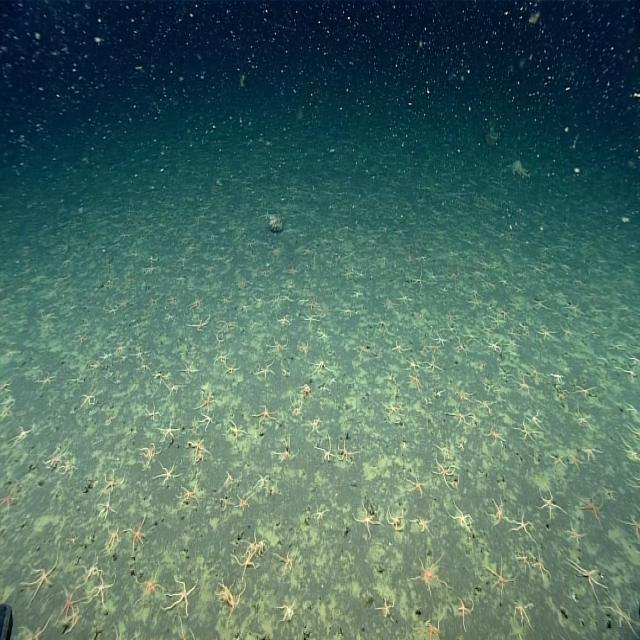brittle-stars: (12, 531, 66, 607), (402, 546, 454, 600), (561, 549, 609, 602), (127, 553, 165, 616), (159, 562, 203, 616), (228, 528, 270, 581), (481, 548, 517, 603), (345, 495, 382, 547), (208, 574, 248, 622), (441, 491, 480, 540), (12, 599, 58, 640), (83, 569, 121, 617), (602, 592, 640, 640), (557, 372, 604, 410), (123, 508, 156, 562), (498, 593, 540, 635), (533, 482, 570, 527), (52, 582, 84, 634), (567, 494, 606, 536), (448, 588, 478, 638), (7, 413, 41, 457), (507, 549, 552, 581), (411, 603, 449, 640), (269, 544, 304, 582), (97, 520, 124, 568), (484, 492, 513, 536), (508, 509, 540, 548), (74, 547, 102, 591), (246, 402, 284, 434), (425, 461, 458, 497), (187, 432, 216, 472), (616, 506, 640, 552), (136, 434, 162, 476), (376, 395, 408, 427), (222, 415, 253, 448), (100, 465, 130, 499), (404, 512, 434, 546), (154, 455, 182, 491), (88, 491, 118, 524), (402, 471, 432, 504), (558, 526, 594, 553), (43, 436, 65, 480), (373, 590, 396, 632), (268, 436, 298, 468), (0, 482, 23, 523), (0, 386, 21, 430), (181, 316, 216, 342), (170, 612, 202, 640), (332, 437, 359, 470), (27, 369, 61, 395), (274, 596, 300, 630), (385, 501, 407, 541), (529, 281, 551, 321), (302, 411, 331, 439), (532, 318, 560, 347), (251, 359, 277, 390), (456, 290, 487, 316), (621, 462, 640, 504), (190, 384, 218, 412), (313, 433, 335, 468), (179, 479, 205, 508), (512, 421, 538, 450), (77, 384, 99, 418), (300, 301, 326, 329), (62, 452, 87, 481), (473, 392, 502, 417), (515, 370, 535, 406), (236, 485, 259, 516), (429, 323, 454, 351), (215, 312, 239, 341), (619, 436, 640, 468), (445, 406, 474, 429), (160, 410, 178, 447), (488, 421, 508, 454), (528, 255, 550, 285), (561, 295, 586, 321), (142, 394, 162, 426), (195, 407, 222, 430), (451, 385, 479, 407), (410, 263, 429, 295), (266, 334, 291, 358), (382, 362, 402, 392), (584, 437, 604, 467), (166, 377, 187, 405), (70, 327, 90, 356), (264, 285, 284, 314), (213, 490, 237, 514), (351, 337, 376, 360), (306, 504, 329, 529), (431, 439, 454, 464), (394, 284, 416, 310), (177, 353, 198, 380), (66, 369, 90, 392), (420, 356, 443, 379), (98, 298, 120, 322), (379, 294, 401, 318), (223, 360, 245, 383), (285, 396, 307, 419), (342, 281, 365, 303), (598, 485, 620, 508), (483, 334, 506, 356), (270, 311, 294, 332), (506, 295, 526, 320), (254, 468, 273, 494), (135, 263, 157, 285), (308, 356, 332, 376), (222, 462, 240, 488), (292, 335, 312, 358), (298, 374, 313, 404), (532, 405, 550, 430), (131, 340, 147, 368), (393, 330, 409, 358), (552, 446, 568, 474), (214, 287, 231, 313), (165, 287, 182, 313), (373, 317, 394, 338), (281, 261, 301, 283), (170, 268, 190, 290), (232, 270, 250, 294), (85, 350, 102, 375), (478, 311, 492, 341), (187, 296, 207, 316), (316, 323, 332, 348), (251, 287, 267, 312), (507, 339, 523, 364), (213, 344, 230, 367), (409, 372, 426, 395), (152, 362, 167, 388), (293, 292, 313, 311), (338, 302, 357, 322), (135, 359, 152, 381), (404, 354, 421, 374), (576, 412, 593, 432), (163, 307, 178, 329), (560, 321, 575, 343), (570, 450, 583, 474), (453, 440, 471, 457), (100, 343, 113, 365), (489, 310, 501, 333), (101, 373, 119, 388), (425, 342, 441, 358), (281, 289, 294, 308), (115, 339, 128, 356)
